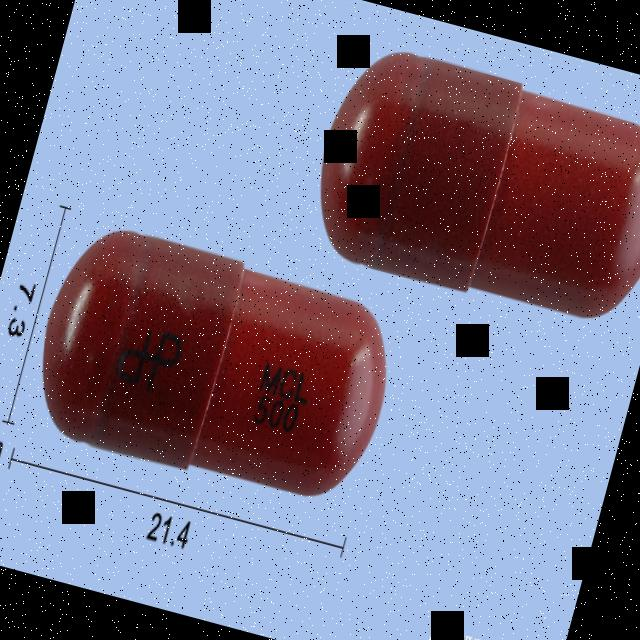Cephamethyl Cap: (16, 205, 415, 519)
